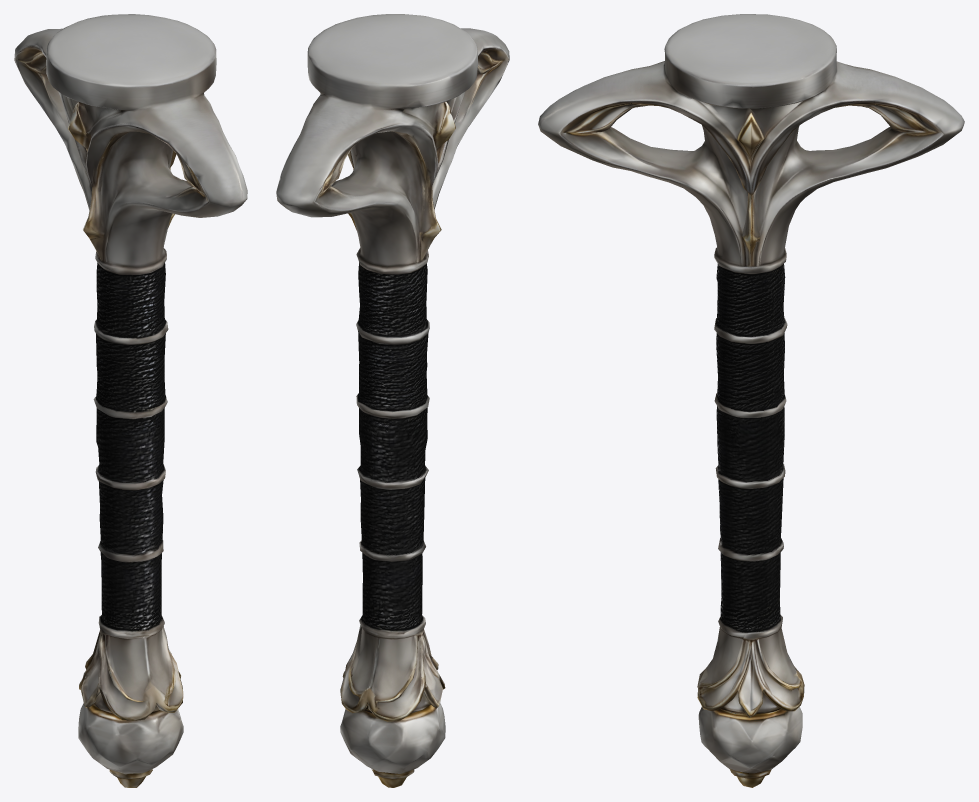
The model's file is hilt_silver_vow.glb.
3 views of the same model, side by side, from view 1: azimuth 30°, elevation 25°; view 2: azimuth 150°, elevation 25°; view 3: azimuth 270°, elevation 25° (orthographic).
Visible parts, largest first — view 1: tripo_node_7135aa21-985e-4f74-8138-308d20c7ad91; view 2: tripo_node_7135aa21-985e-4f74-8138-308d20c7ad91; view 3: tripo_node_7135aa21-985e-4f74-8138-308d20c7ad91.
Boxes of the visible parts, box(x1,y1,x2,y2) form: tripo_node_7135aa21-985e-4f74-8138-308d20c7ad91: box(14, 14, 247, 787); tripo_node_7135aa21-985e-4f74-8138-308d20c7ad91: box(276, 14, 509, 787); tripo_node_7135aa21-985e-4f74-8138-308d20c7ad91: box(538, 14, 964, 787).
Size of the model in its own units: 0.2074 by 1 by 0.5208.
1 material, 1 textured.
